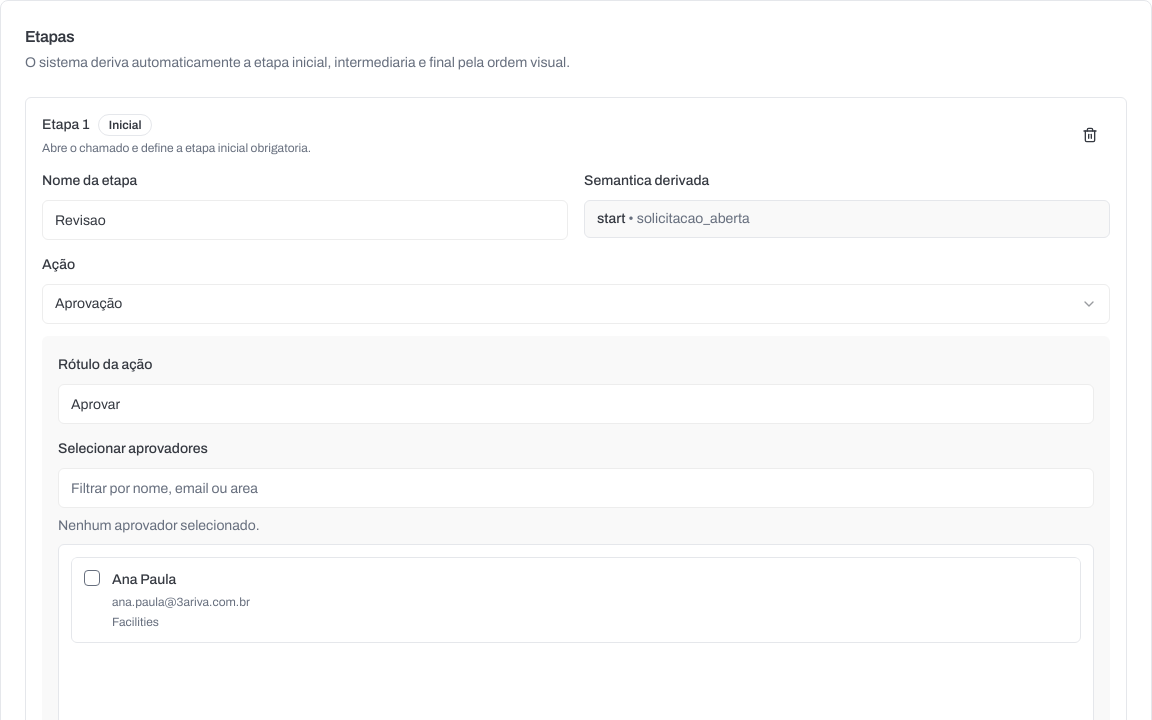
WorkflowDraftStepsSection › shows PT-BR labels and preserves the internal action type value
Click the dropdown at (89, 304), box [42,284,1110,324]
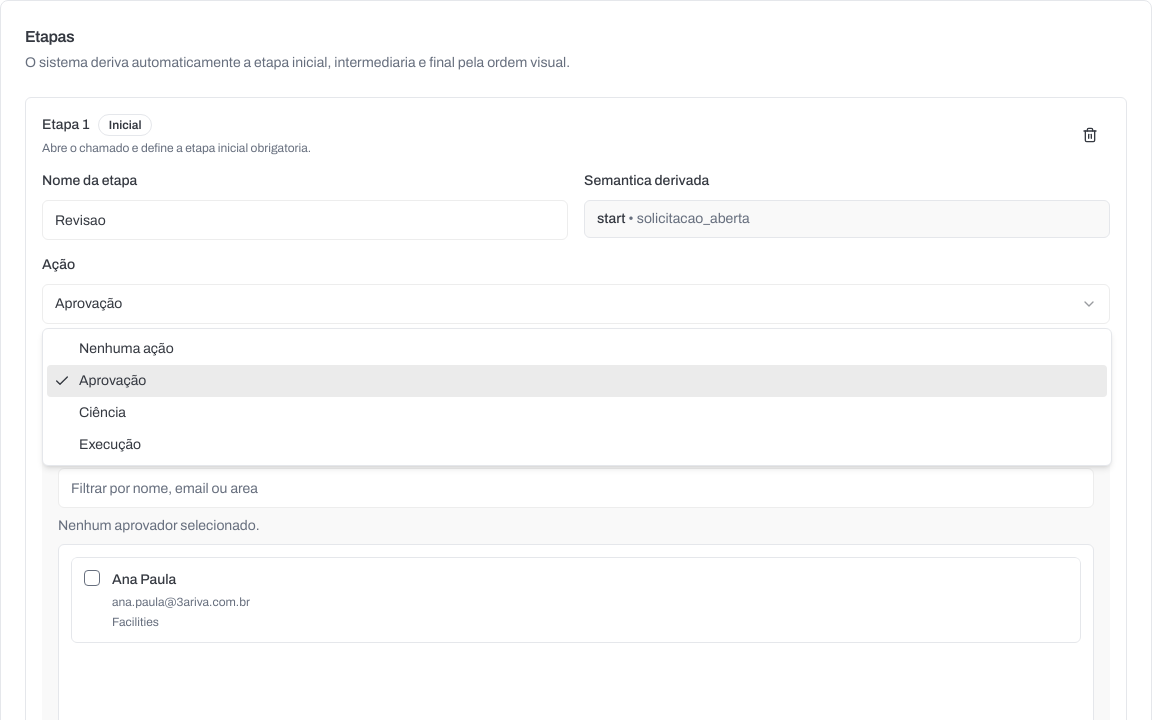
Expected: the option "Aprovação" is shown, [47,365,1107,397]
Expected: the option "Ciência" is shown
Expected: the option "Execução" is shown, [79,437,141,452]
Click the option "Ciência" at (102, 412), box [79,405,126,420]
(page scrolled)
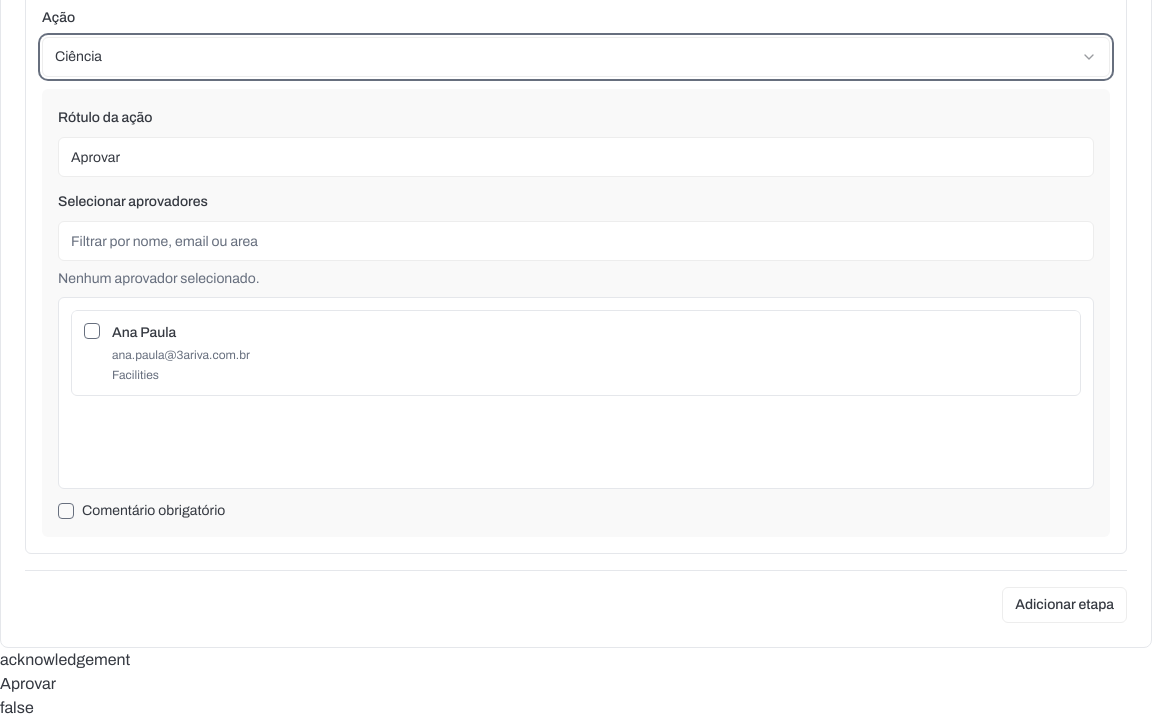
Expected: the text with test id "action-type" reads "acknowledgement", [0,651,130,668]
